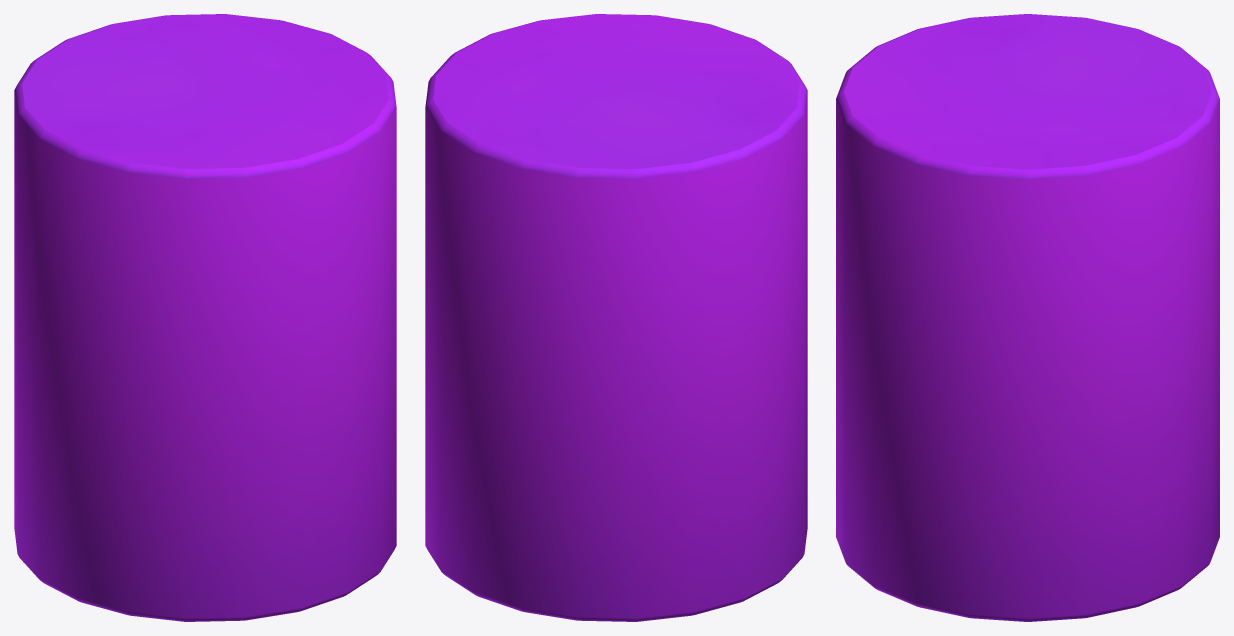
Rendered from CylinderPink.fbx.
3 views of the same model, side by side, from view 1: azimuth 30°, elevation 25°; view 2: azimuth 150°, elevation 25°; view 3: azimuth 270°, elevation 25° (orthographic).
Parts seen in each view (by area): view 1: Cylinder; view 2: Cylinder; view 3: Cylinder.
Boxes of the visible parts, x1,y1,x2,y2 form: Cylinder: (14,14,396,621); Cylinder: (425,14,807,621); Cylinder: (836,14,1219,621).
Size of the model in its own units: 2 by 2.6 by 2.
